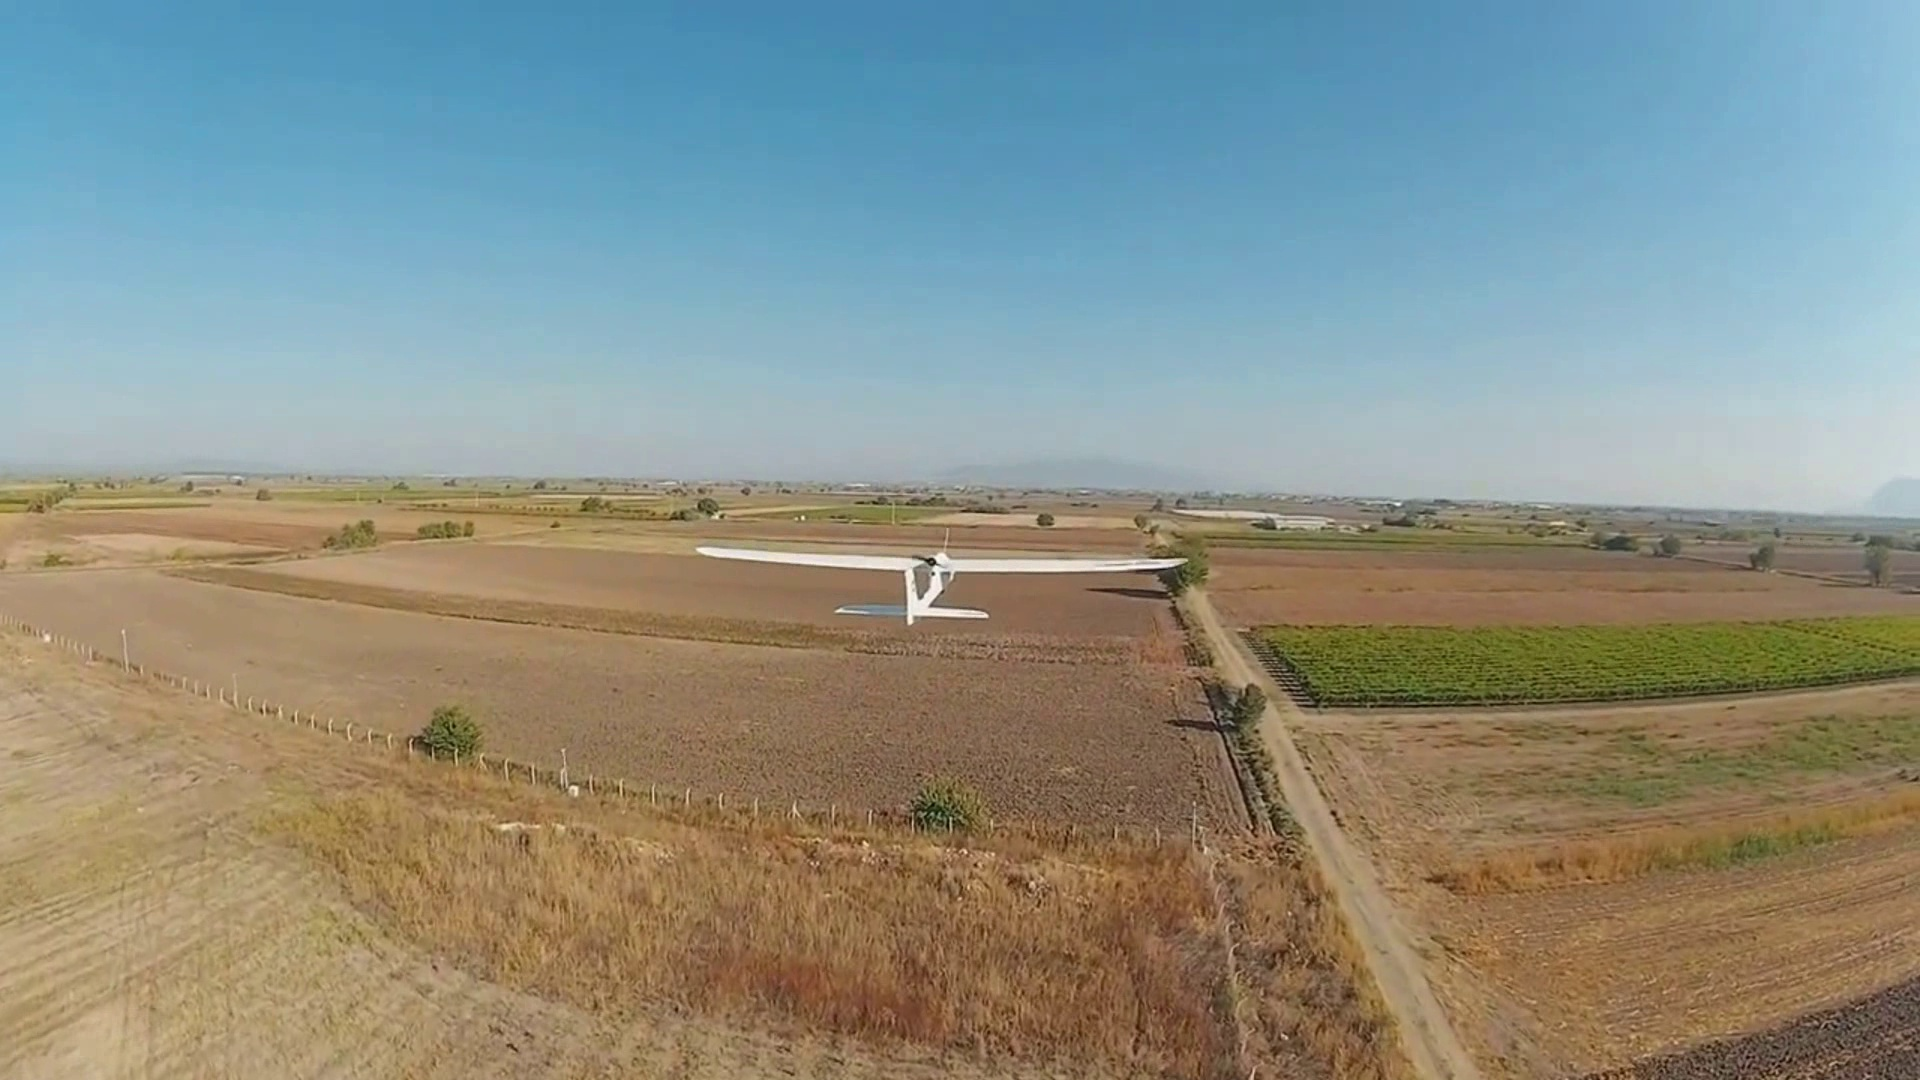airplane: (694, 533, 1180, 628), (693, 541, 963, 621)
